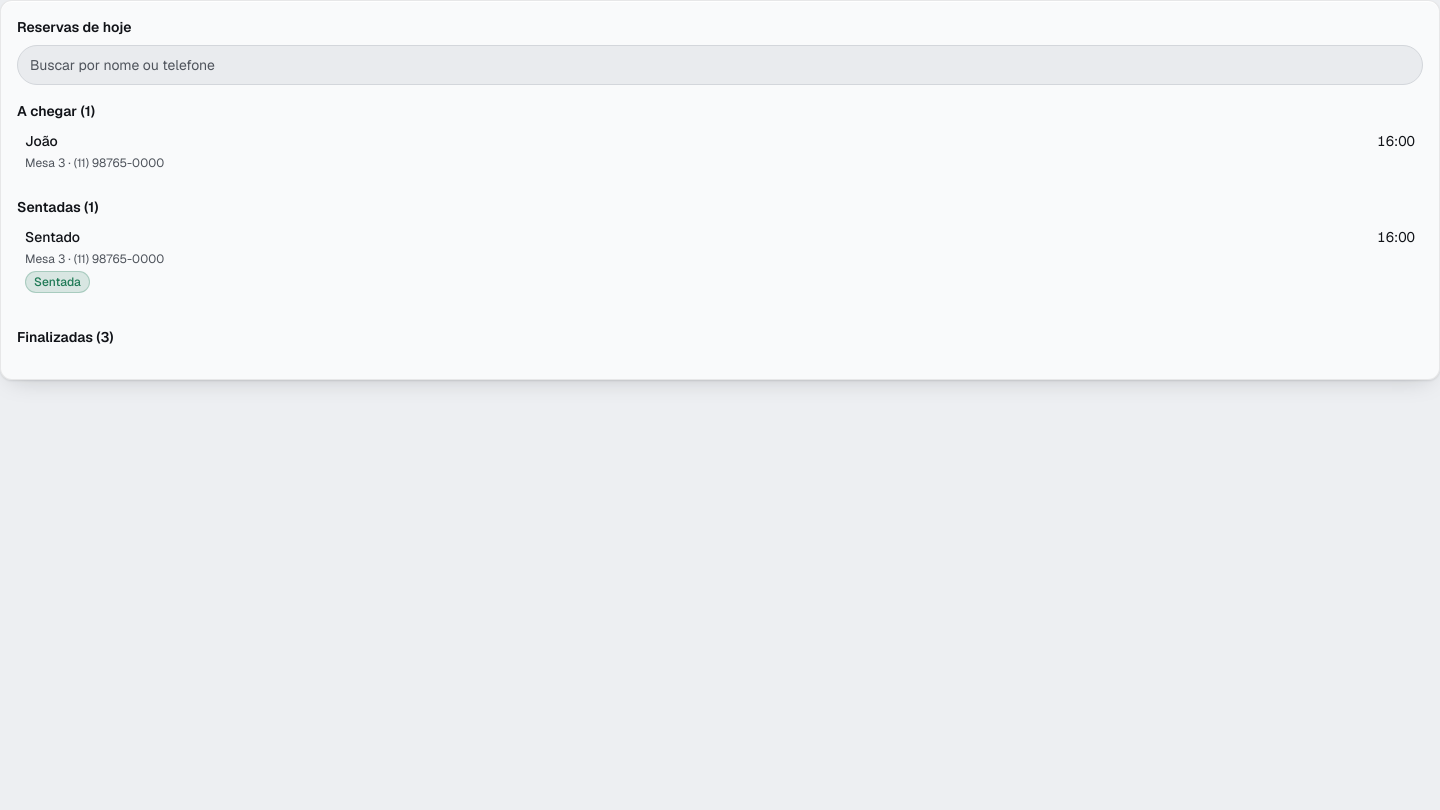
ReservasDoDia › separa A chegar, Sentadas e Finalizadas, com Finalizadas recolhida
Expected: the heading "A chegar (1)" is shown, [17,102,95,120]
Expected: the heading "Sentadas (1)" is shown, [17,198,98,216]
Click the button "Finalizadas (3)" at (65, 337), box [17,315,114,359]
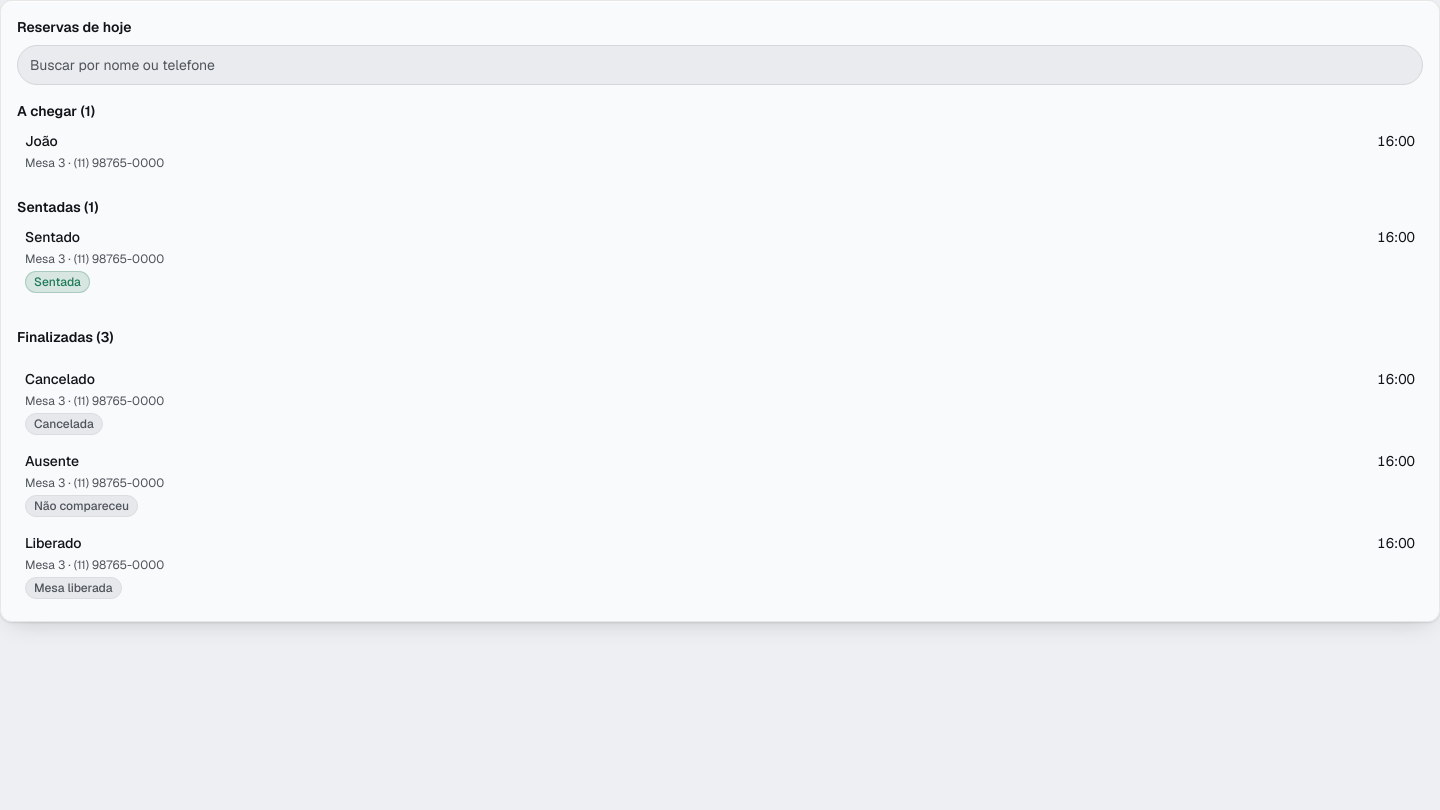
Expected: the text "Cancelada" is shown, [25,413,103,435]
Expected: the text "Não compareceu" is shown, [25,495,138,517]
Expected: the text "Mesa liberada" is shown, [25,577,122,599]
